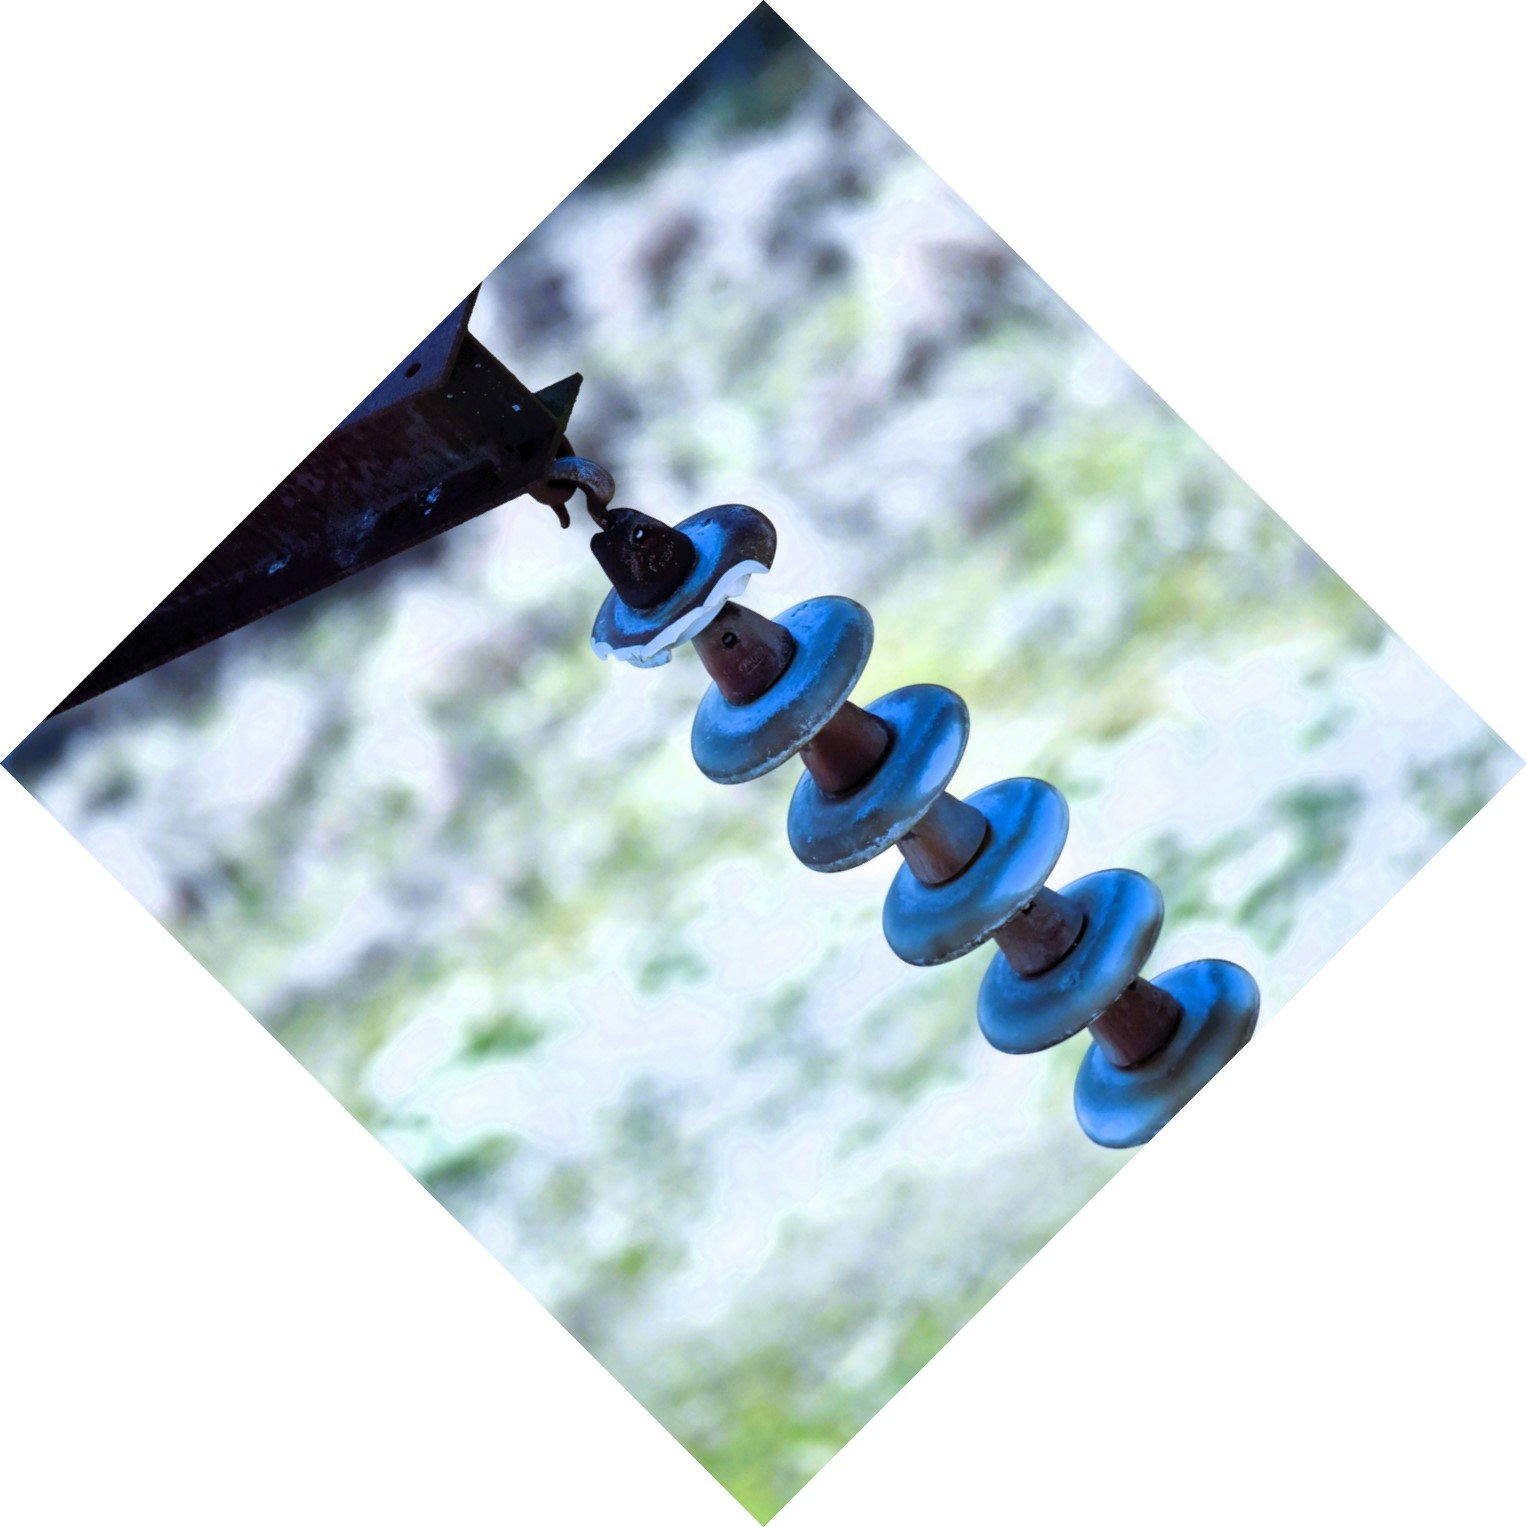insulator breakage: (573, 496, 784, 675)
